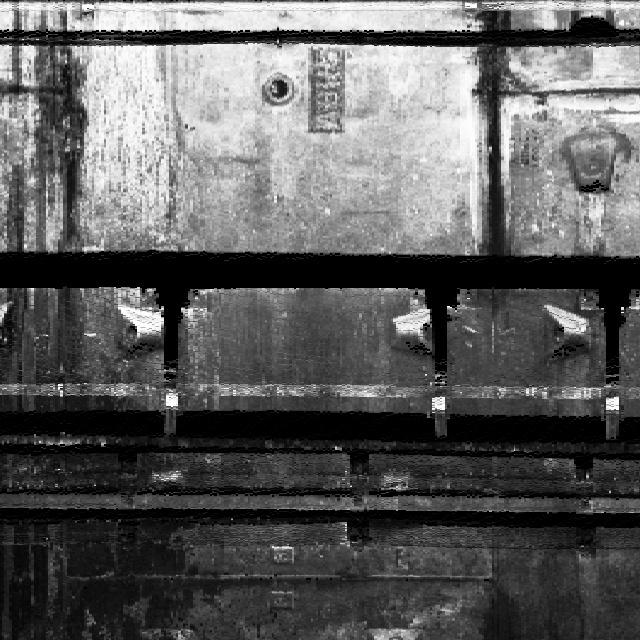leakage: (0, 7, 102, 409), (458, 0, 538, 249)
